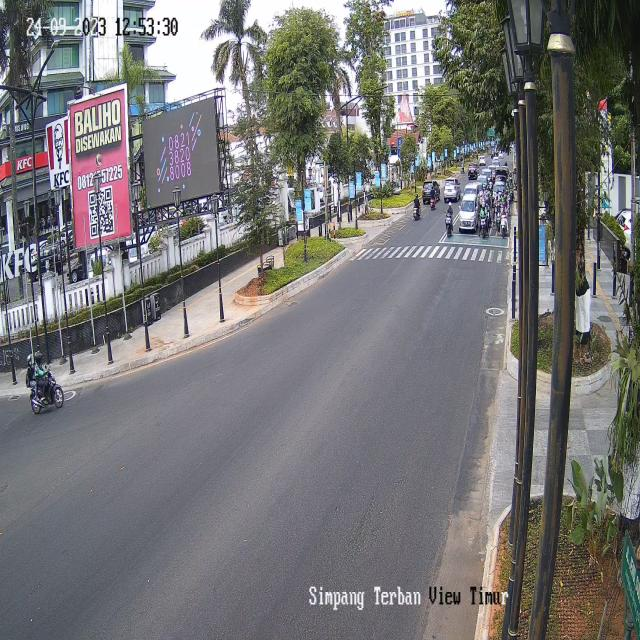car: (458, 191, 477, 233), (422, 179, 441, 206), (444, 177, 460, 203)
motorcycle: (26, 346, 66, 414), (500, 202, 511, 238), (446, 197, 452, 237), (481, 199, 487, 238), (414, 193, 421, 223), (430, 186, 437, 210)
